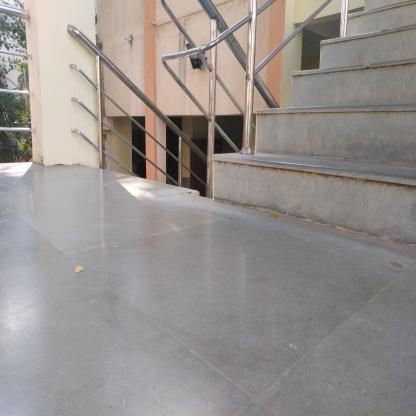stairs: (322, 43, 413, 260)
